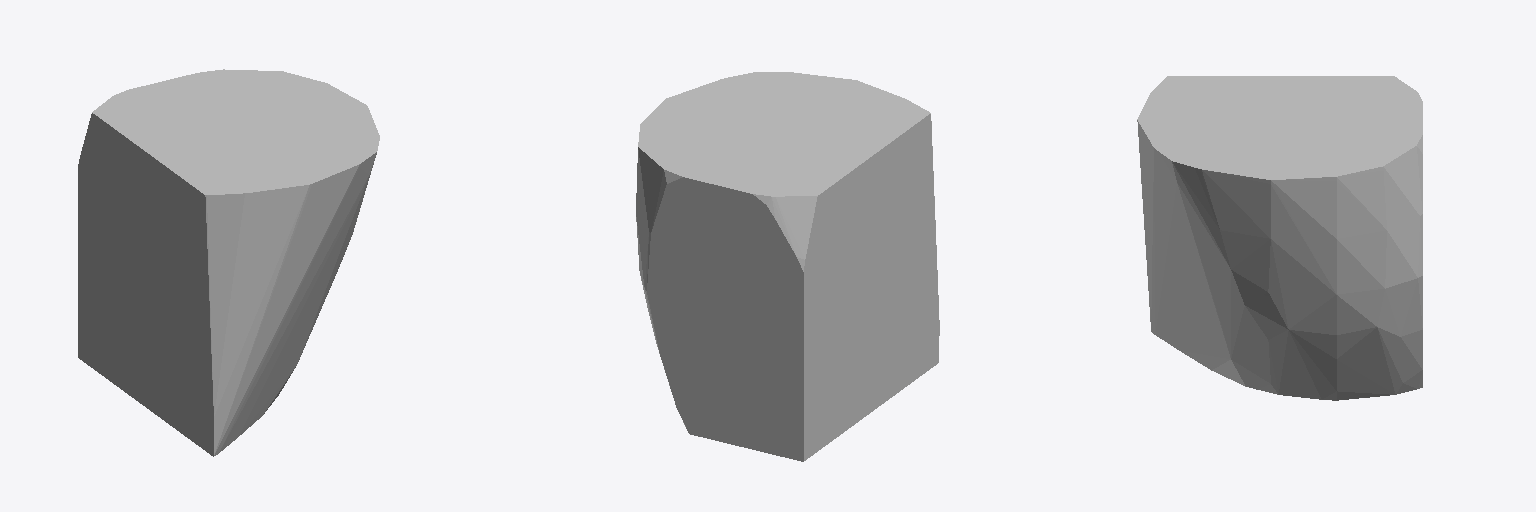
Rendered from phantom-elastrat_collision_497.obj.
3 renders of one model, left to right at view 1: azimuth 30°, elevation 25°; view 2: azimuth 150°, elevation 25°; view 3: azimuth 270°, elevation 25°, orthographic.
Bounding box in the file's own units: 0.0043 × 0.005 × 0.005.